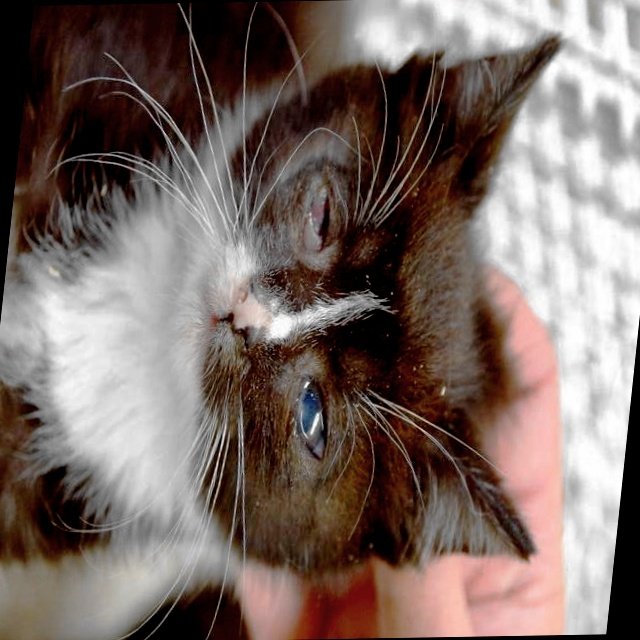eye_infection: (290, 177, 346, 256)
